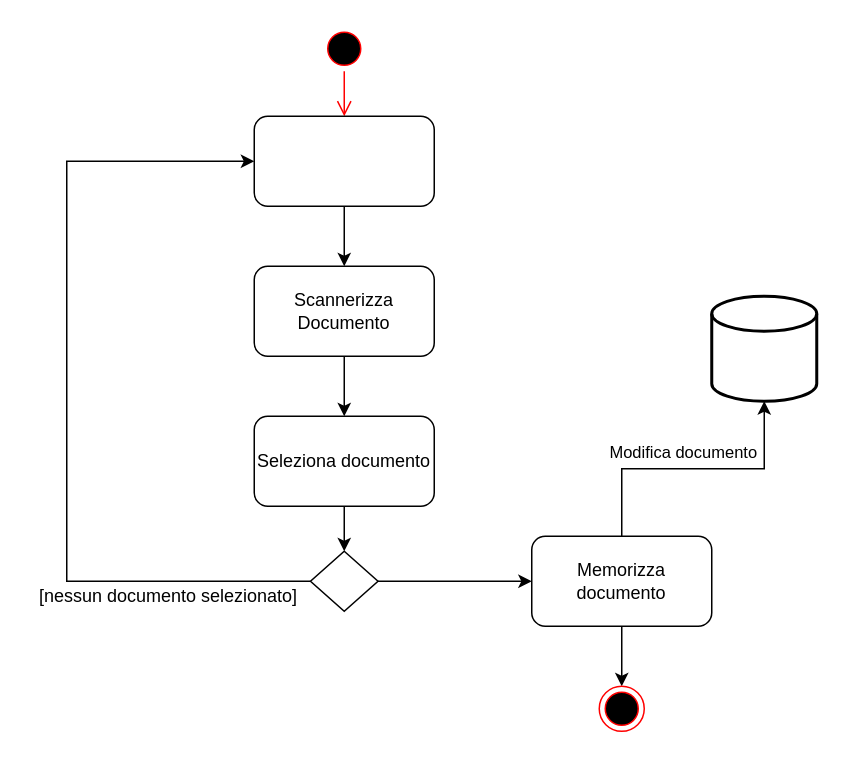
The diagram is 845 pixels wide and 758 high, and some of its shapes have lost their labels. The centre of each missing label's shape, as x and y in pixels:
Database clienti: pixel 764 348
Mostra Profilo Cliente: pixel 343 160
